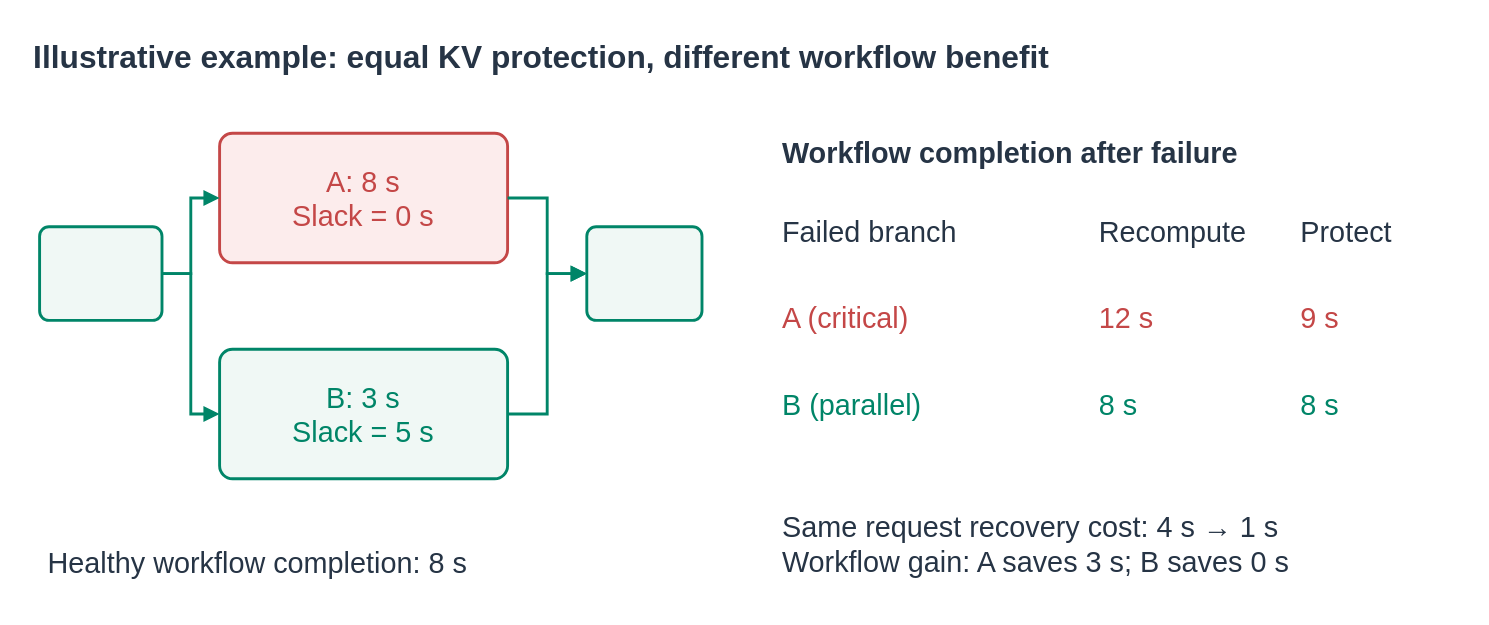
The diagram is 1489 pixels wide and 625 high, and some of its shapes have lost their labels. Here are the shapes that lost their labels. From the top down, the centre of each, then its label:
the point at 100,273: Fork
the point at 644,273: Join
